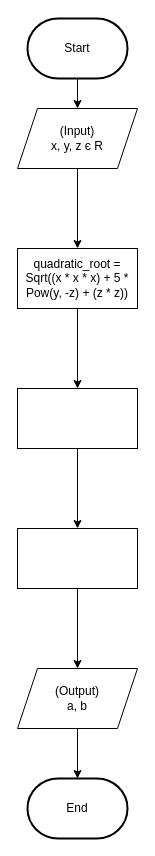
The diagram is 155 pixels wide and 856 high, and some of its shapes have lost their labels. Each missing label, with the box of its shape:
a = (y - Sqrt(Abs(x * x * x))) / quadratic_root: (16, 388, 138, 448)
b = Sin(Pow(a, -x) + y): (16, 528, 138, 588)
